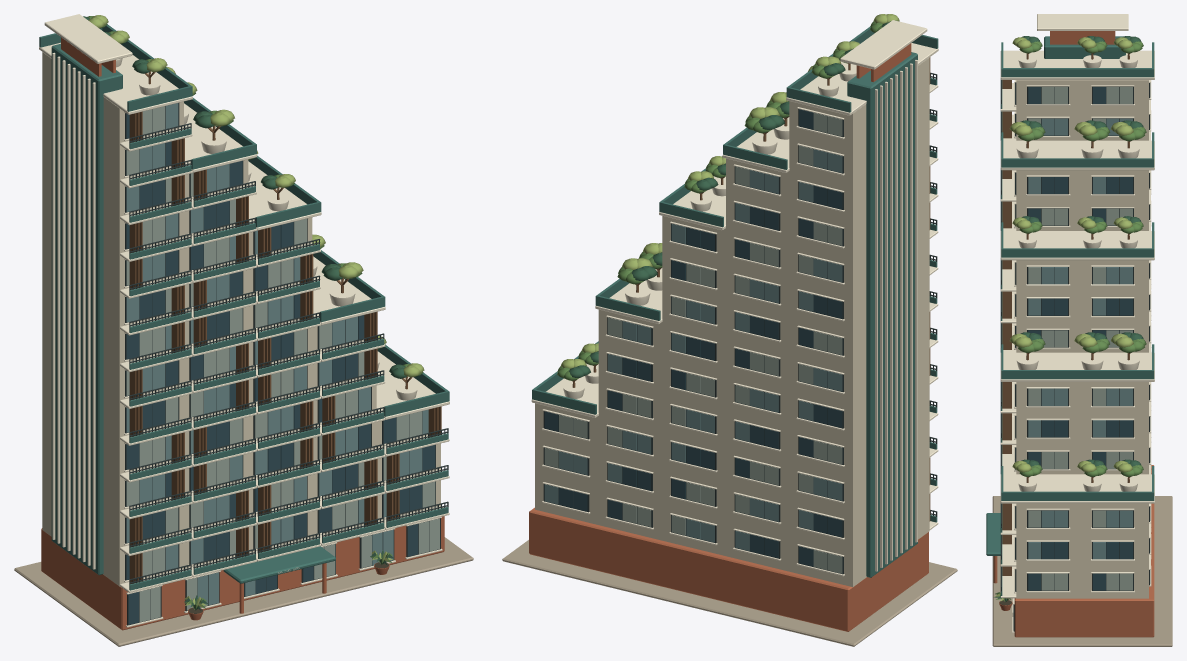
3 renders of one model, left to right at view 1: azimuth 30°, elevation 25°; view 2: azimuth 150°, elevation 25°; view 3: azimuth 270°, elevation 25°, orthographic. The views are drawn at different scales.
Visible parts, largest first — view 1: Residential tiers, Casements and sills, Recessed loggias, Setback pocket gardens, Entry planters; view 2: Residential tiers, Casements and sills, Setback pocket gardens, Recessed loggias; view 3: Residential tiers, Casements and sills, Setback pocket gardens, Recessed loggias.
Boxes of the visible parts, x1,y1,x2,y2 form: Residential tiers: [14, 14, 473, 646]; Casements and sills: [124, 103, 442, 627]; Recessed loggias: [120, 111, 449, 592]; Setback pocket gardens: [83, 15, 424, 400]; Entry planters: [184, 550, 394, 620]; Residential tiers: [502, 20, 957, 646]; Casements and sills: [542, 107, 844, 576]; Setback pocket gardens: [557, 14, 899, 398]; Recessed loggias: [929, 57, 938, 529]; Residential tiers: [986, 14, 1172, 646]; Casements and sills: [1012, 80, 1151, 632]; Setback pocket gardens: [1009, 36, 1146, 491]; Recessed loggias: [1000, 80, 1016, 598].
Size of the model in its own units: 30.6 by 46.51 by 16.17.
